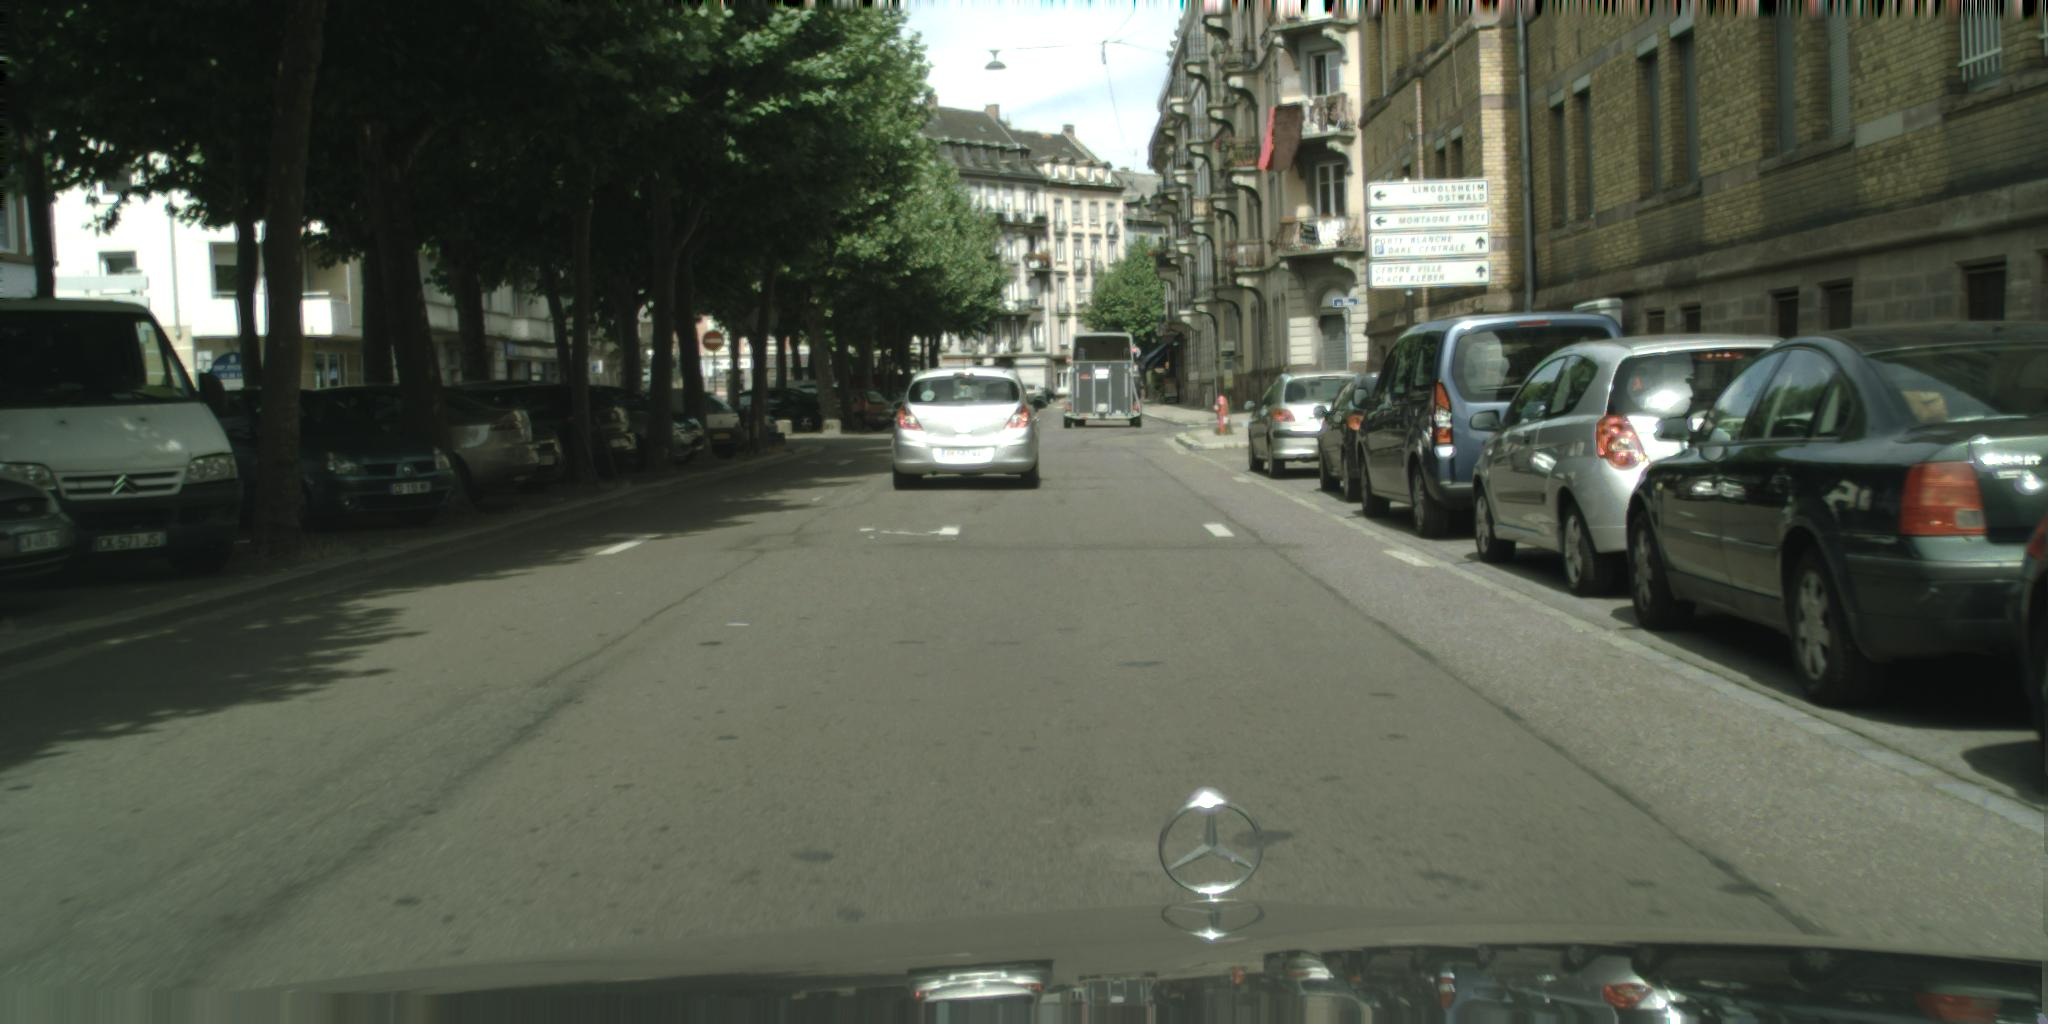car: (1626, 323, 2048, 712), (1471, 334, 1792, 598), (1, 298, 246, 575), (1353, 313, 1630, 539), (187, 388, 457, 536), (307, 383, 539, 504), (438, 380, 694, 474), (892, 367, 1048, 490), (451, 387, 637, 485), (1245, 371, 1365, 479), (2008, 515, 2048, 772), (1315, 371, 1388, 503), (626, 389, 744, 460), (1, 474, 77, 583), (583, 387, 705, 452), (718, 388, 829, 434), (500, 421, 567, 494), (805, 388, 895, 432), (863, 388, 916, 424), (725, 408, 778, 438), (1017, 384, 1048, 406), (1038, 389, 1057, 405)
